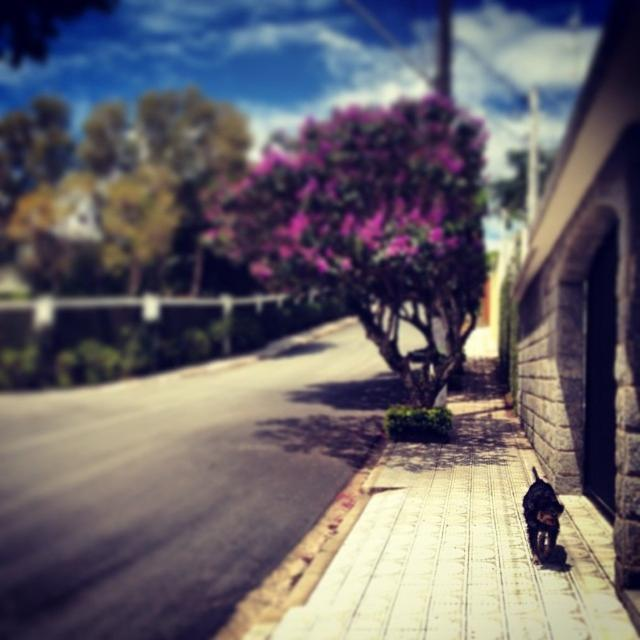Flower: (203, 94, 491, 278)
